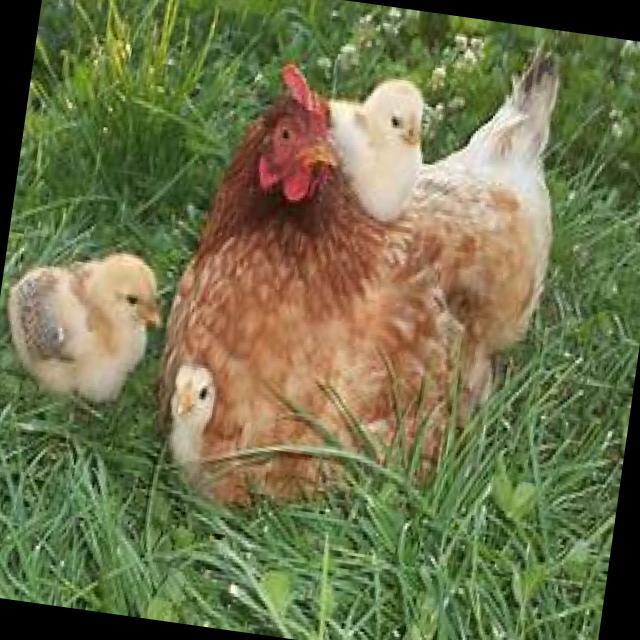chicken: (147, 7, 577, 541), (0, 233, 167, 411), (317, 71, 433, 228), (153, 369, 223, 493)
